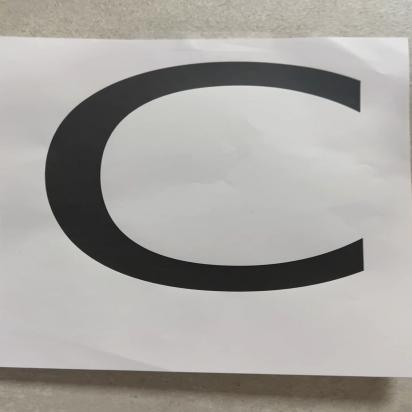seat: (12, 41, 412, 366)
